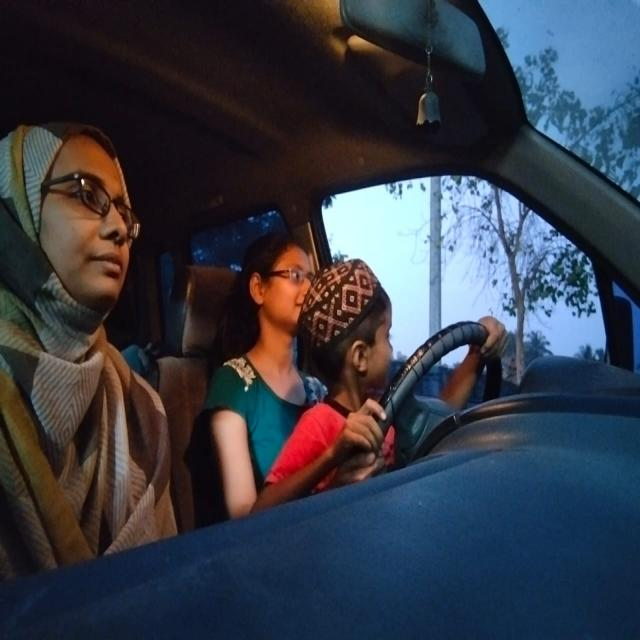child: (292, 250, 400, 403)
person: (0, 112, 139, 329), (244, 220, 315, 322)
